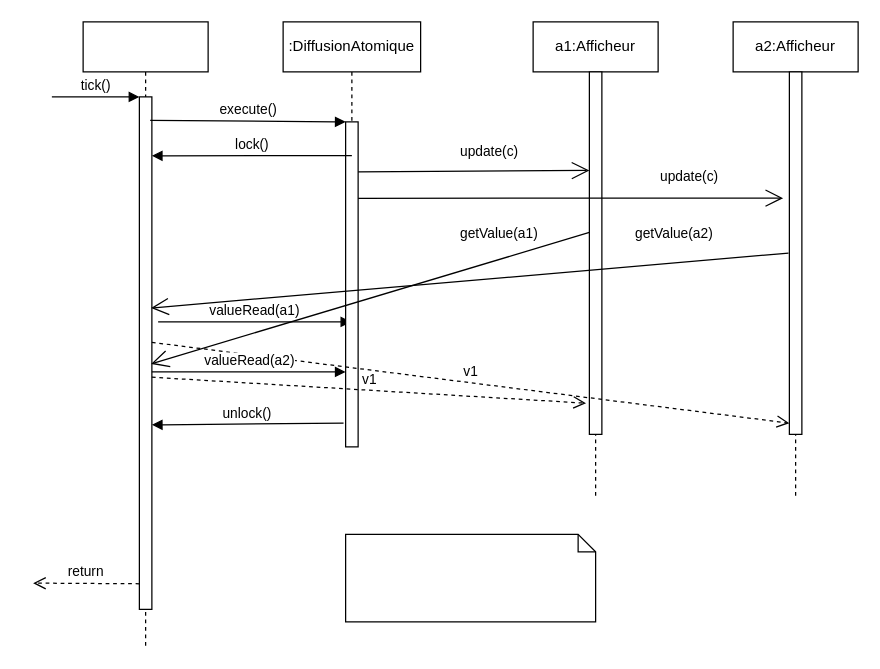
The diagram is 880 pixels wide and 669 high, and some of its shapes have lost their labels. Each missing label, with the centre of its shape:
c:CapteurImpl: point (145, 334)
Travail à faire : finir la coopération entre capteur et algorithme: point (470, 577)
